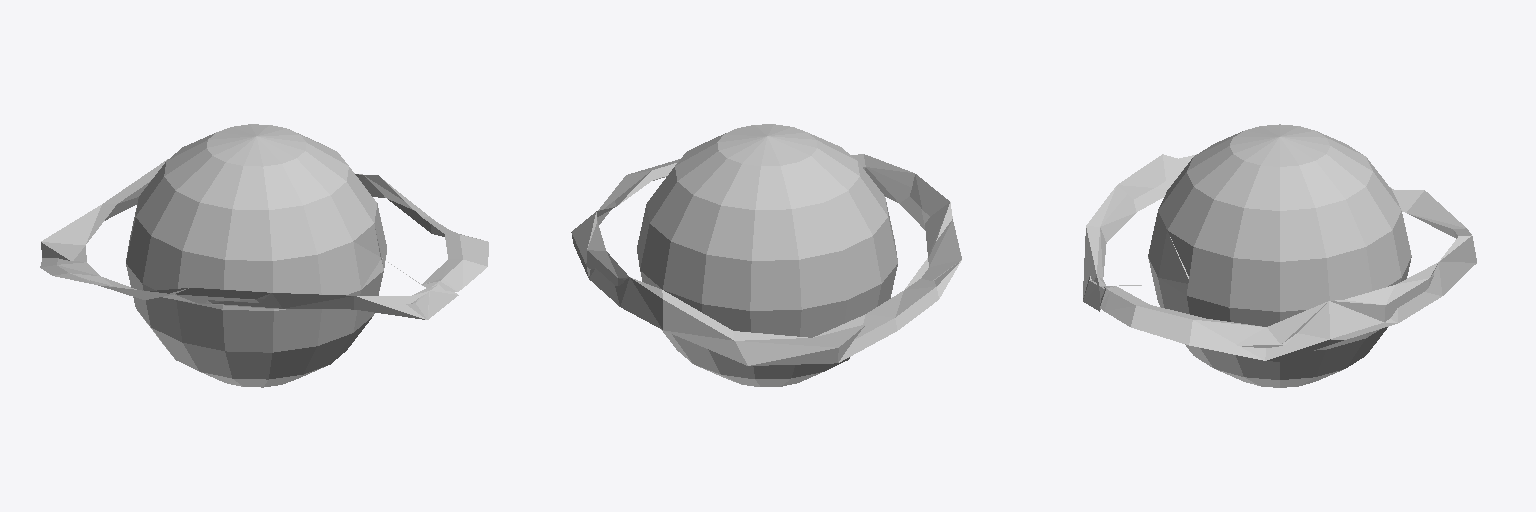
File: esfera_anillo2.obj
The picture shows the model from 3 angles: view 1: azimuth 30°, elevation 25°; view 2: azimuth 150°, elevation 25°; view 3: azimuth 270°, elevation 25°; orthographic projection.
Visible parts, largest first — view 1: Sphere; view 2: Sphere; view 3: Sphere.
Boxes of the visible parts, box(x1,y1,x2,y2) form: Sphere: box(40, 124, 488, 387); Sphere: box(571, 124, 961, 386); Sphere: box(1083, 124, 1476, 387).
Bounding box in the file's own units: 6.56 × 4 × 5.98.